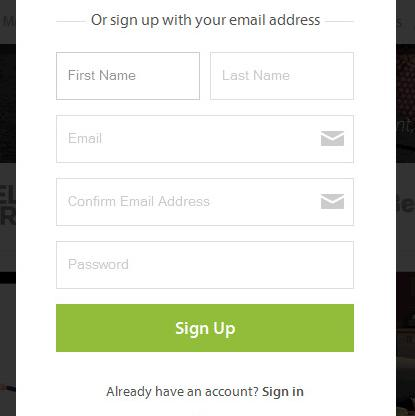button: (55, 302, 355, 353)
field: (55, 240, 354, 290), (55, 177, 353, 227), (55, 115, 354, 163), (56, 51, 201, 101), (210, 51, 354, 101)
